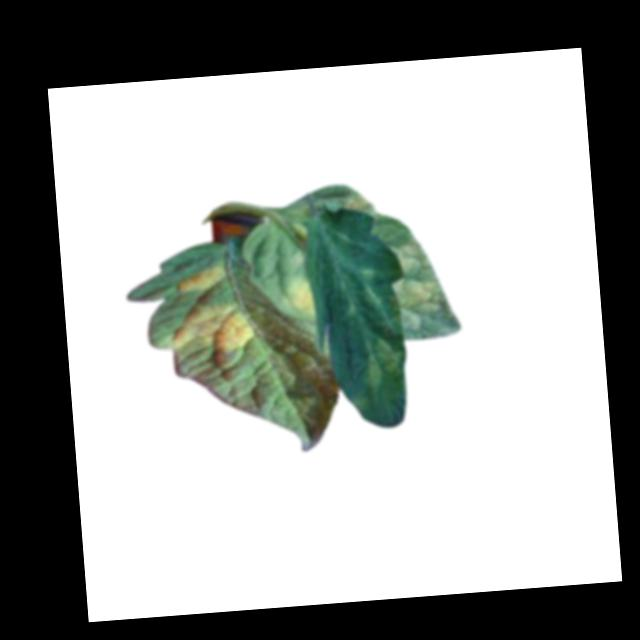Leaf_Mold: (387, 232, 455, 332), (166, 298, 255, 356), (357, 335, 404, 396), (172, 260, 227, 296), (279, 278, 319, 318), (339, 188, 371, 217)
